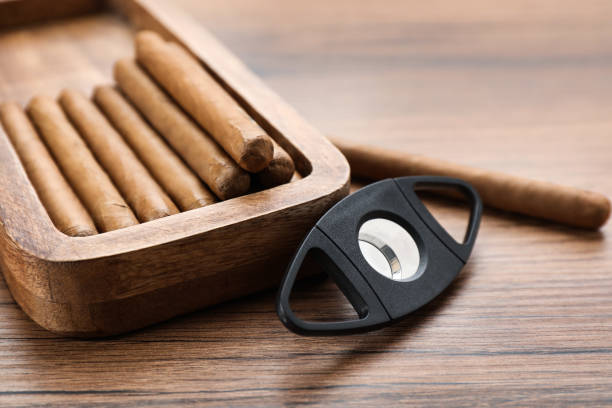cigarette: (334, 132, 612, 231), (138, 25, 292, 175), (112, 55, 254, 202), (57, 87, 180, 227), (26, 94, 142, 237), (91, 82, 216, 212), (0, 98, 99, 236), (259, 136, 295, 188)
